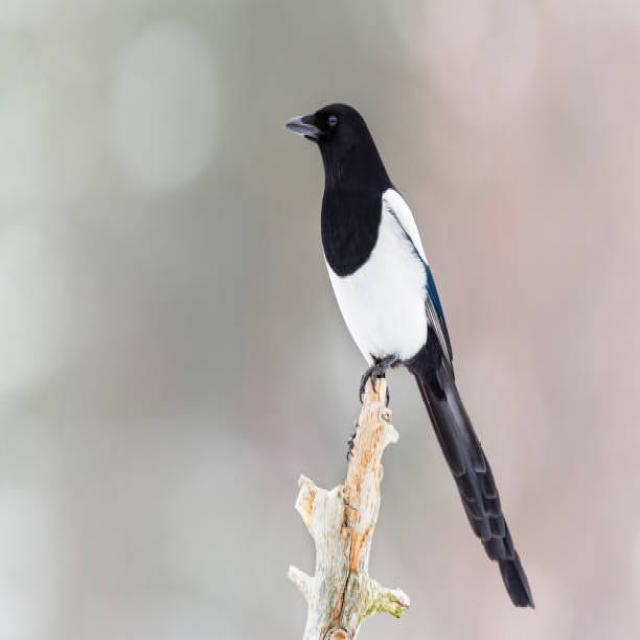Magpie: (286, 102, 540, 613)
